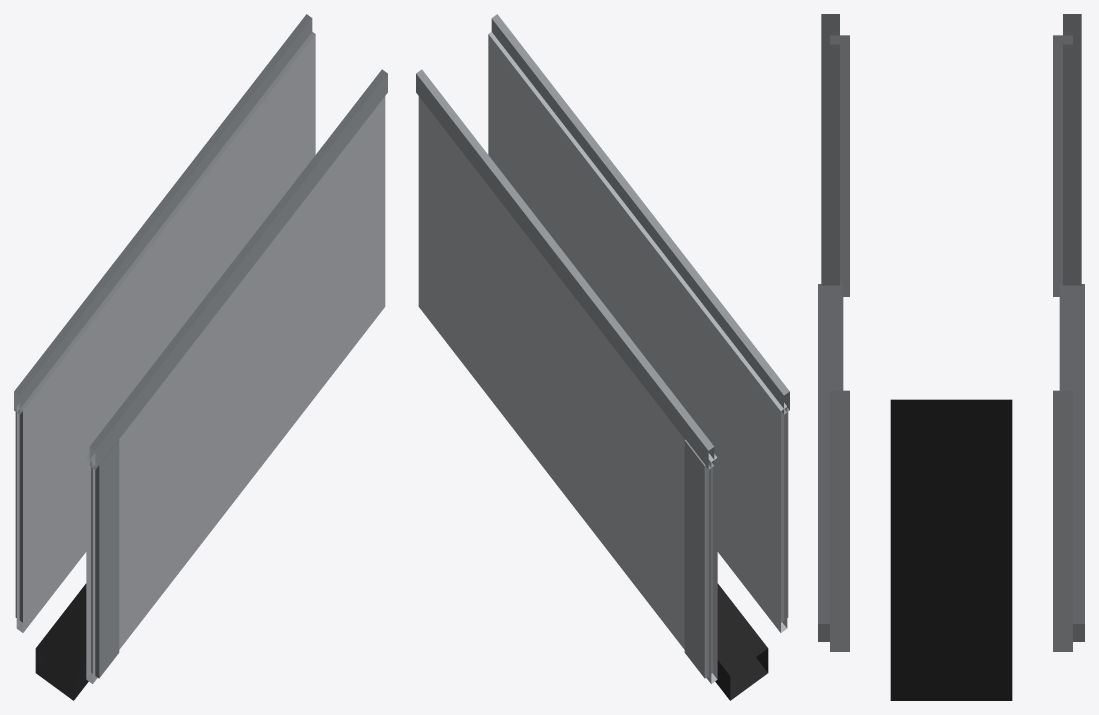
The model's file is crash_cushion_bay_core_up.obj.
3 views of the same model, side by side, from view 1: azimuth 30°, elevation 25°; view 2: azimuth 150°, elevation 25°; view 3: azimuth 270°, elevation 25° (orthographic). The views are drawn at different scales.
Visible parts, largest first — view 1: crash_cushion_bay_core_up; view 2: crash_cushion_bay_core_up; view 3: crash_cushion_bay_core_up.
Boxes of the visible parts, bbox=[...] form: crash_cushion_bay_core_up: bbox=[14, 14, 387, 700]; crash_cushion_bay_core_up: bbox=[416, 14, 789, 700]; crash_cushion_bay_core_up: bbox=[818, 14, 1084, 700].
Bounding box in the file's own units: 1 × 1.87 × 0.4938.
